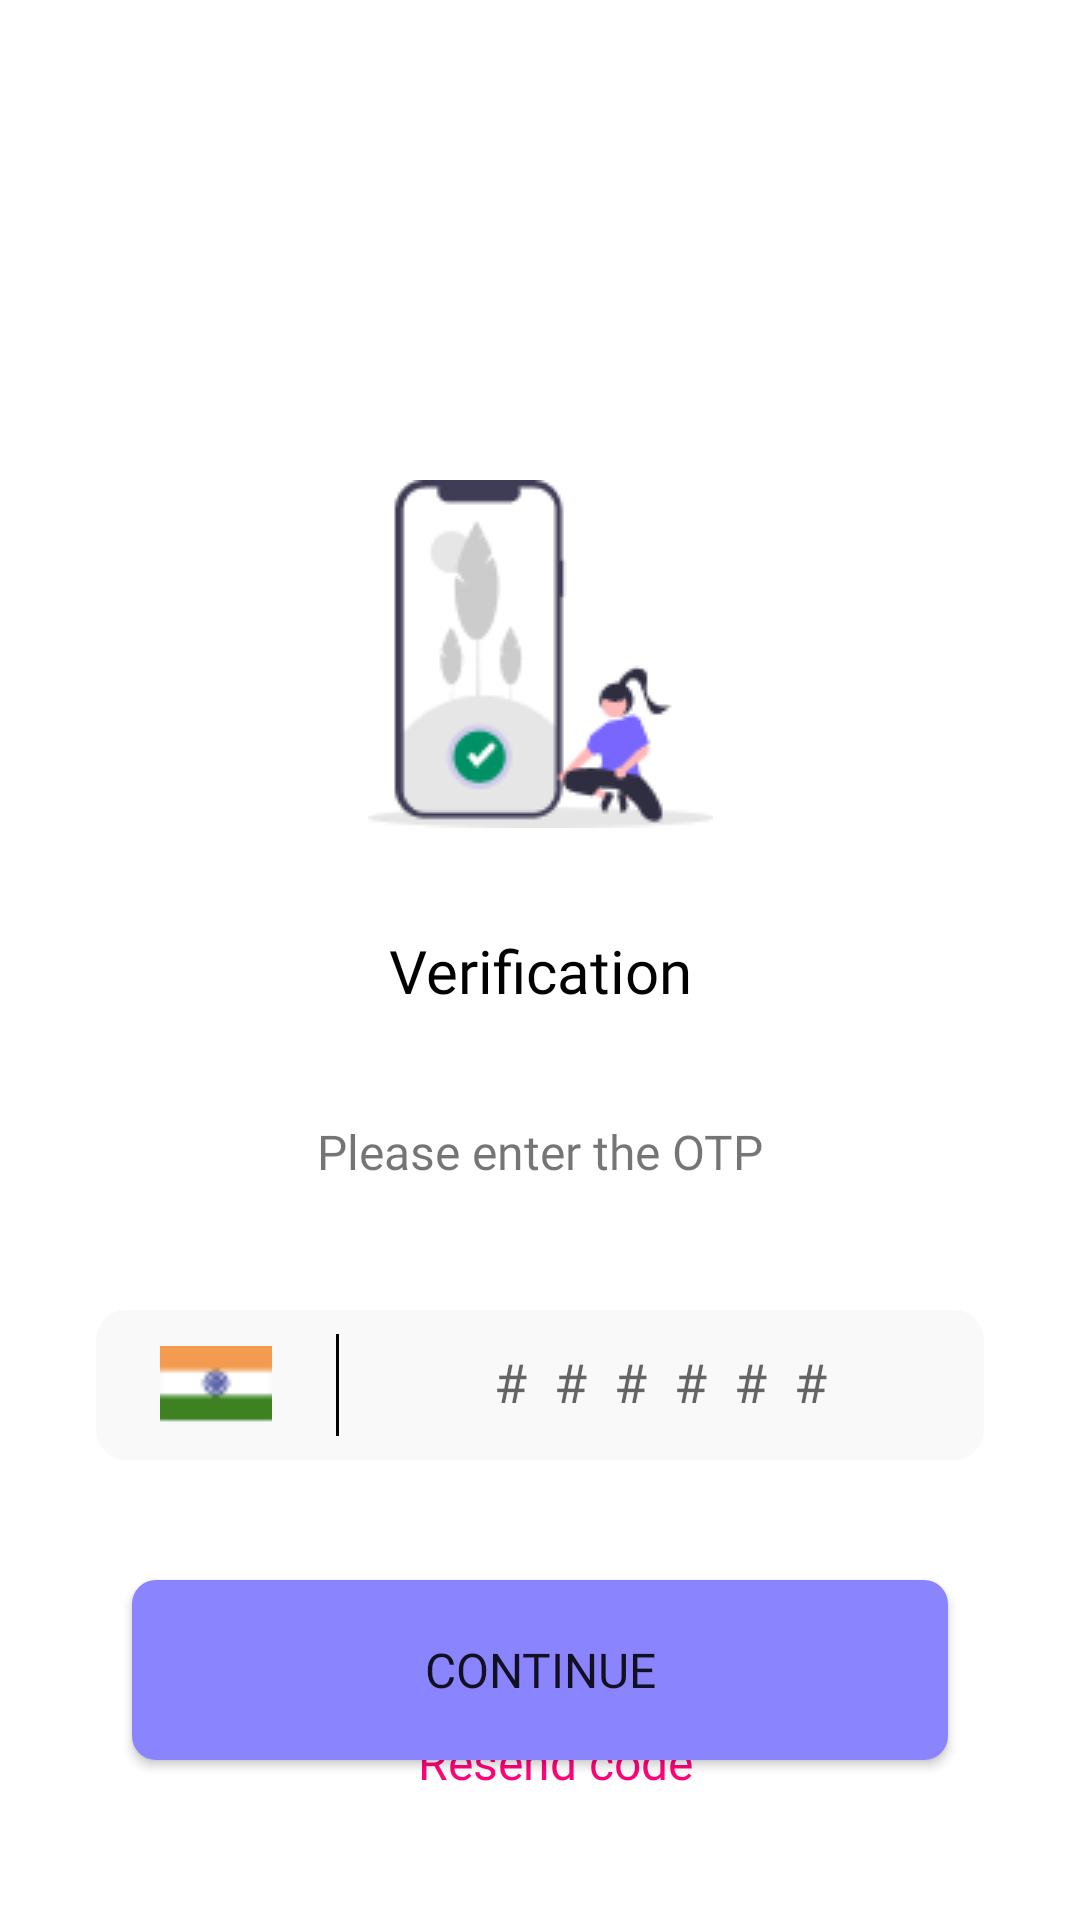

Icon click points for this 1080 x 1920 phone screenshot, format (x,y):
india flag: (216,1384)
otp: (540,654)
